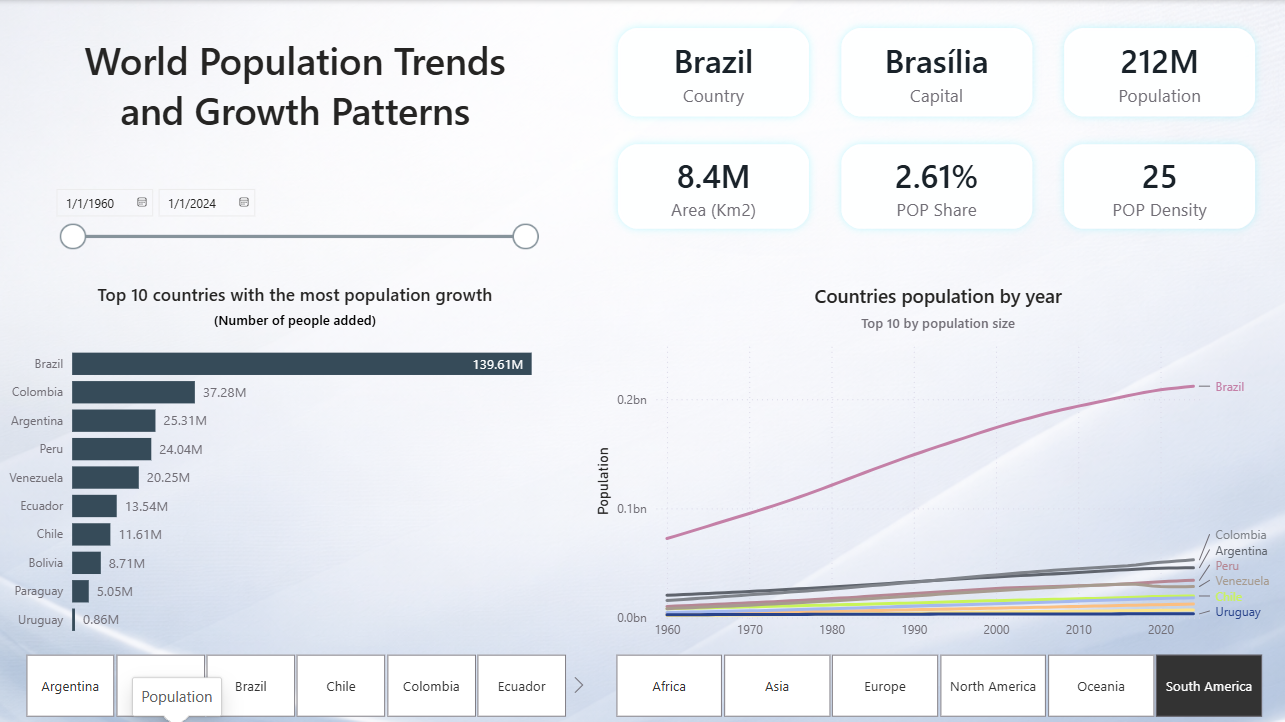

The page's visual inventory and layout, read from the dashboard file:
{"tool":"powerbi","page":{"name":"Population","canvas":[1280,720],"ordinal":0},"visuals":[{"type":"slicer","fields":{"Values":["world_population dim_countries.country_name"]},"box":[0,644.4,587.1,75.9],"z":0},{"type":"lineChart","title":"Countries population by year","fields":{"Y":["Sum(world_population fact_population.population_count)"],"Series":["world_population dim_countries.country_name"],"Category":["world_population fact_population.year_record"]},"box":[587.1,272.4,692.9,371.9],"z":1000},{"type":"slicer","fields":{"Values":["world_population dim_countries.continent"]},"box":[587.1,644.4,692.9,75.9],"z":2000},{"type":"slicer","fields":{"Values":["world_population dim_year.year_record"]},"box":[43.5,172.9,500.1,83.3],"z":3000},{"type":"clusteredBarChart","title":"Top 10 countries with the most population growth","fields":{"Category":["world_population dim_countries.country_name"],"Y":["_Measures_.Most_population_added"]},"box":[0,272.4,587.1,371.9],"z":4000},{"type":"textbox","box":[43.5,29.9,500.1,114.4],"z":5000},{"type":"cardVisual","fields":{"Data":["_Measures_.Top Country Area","_Measures_.Top Country Share","_Measures_.Top Country Density"]},"box":[587.1,115.7,692.9,140.6],"z":6000},{"type":"cardVisual","fields":{"Data":["_Measures_.Top Country","_Measures_.Top Country Capital","_Measures_.Top Country Population"]},"box":[587.1,0,692.9,144.3],"z":7000}]}

Visuals, with their boxes in screenshot pixels (x1, y1, x2, y2), scaled from the page's 1280x720 canvas onto the 1285x722 screenshot:
slicer - world_population dim_countries.country_name: x1=0, y1=646, x2=589, y2=721
"Countries population by year" lineChart: x1=589, y1=273, x2=1284, y2=646
slicer - world_population dim_countries.continent: x1=589, y1=646, x2=1284, y2=721
slicer - world_population dim_year.year_record: x1=44, y1=173, x2=546, y2=257
"Top 10 countries with the most population growth" clusteredBarChart: x1=0, y1=273, x2=589, y2=646
textbox: x1=44, y1=30, x2=546, y2=145
cardVisual - _Measures_.Top Country Area x _Measures_.Top Country Share: x1=589, y1=116, x2=1284, y2=257
cardVisual - _Measures_.Top Country x _Measures_.Top Country Capital: x1=589, y1=0, x2=1284, y2=145
